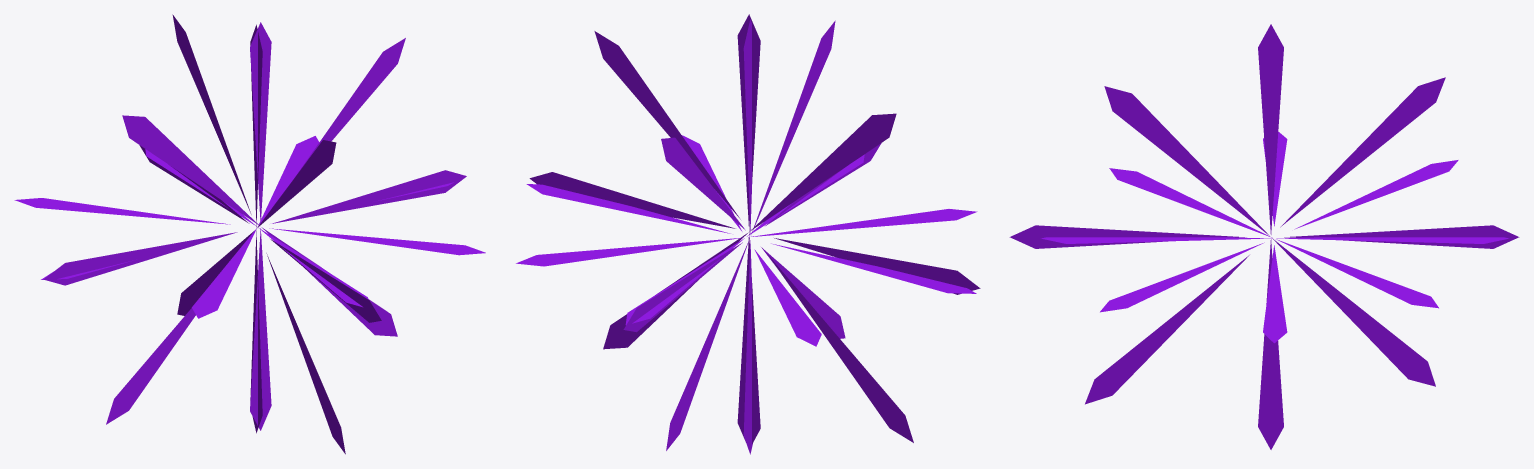
The model's file is gfx_5.obj.
3 views of the same model, side by side, from view 1: azimuth 30°, elevation 25°; view 2: azimuth 150°, elevation 25°; view 3: azimuth 270°, elevation 25° (orthographic). The views are drawn at different scales.
Size of the model in its own units: 2.44 by 2.27 by 2.44.
